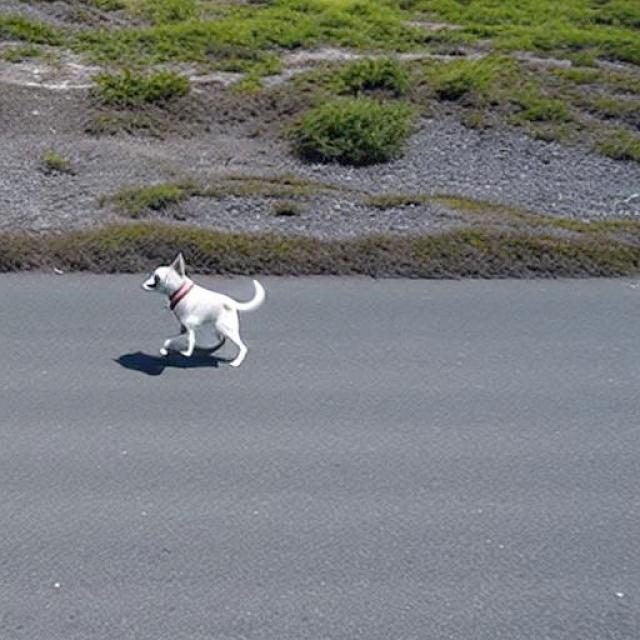Dog: (139, 253, 265, 368)
